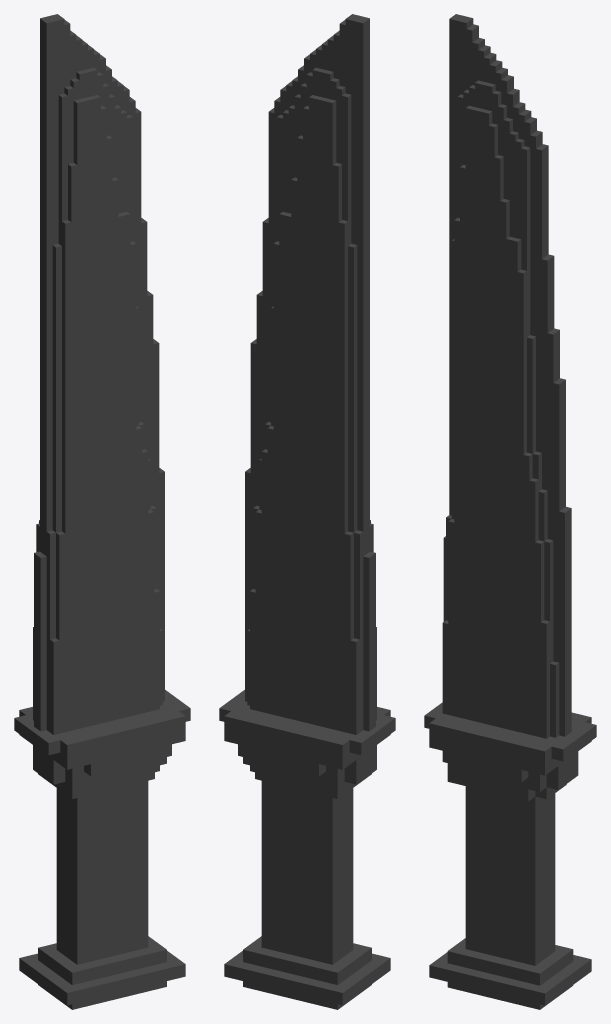
Rendered from sword.obj.
The picture shows the model from 3 angles, left to right: view 1: azimuth 30°, elevation 25°; view 2: azimuth 150°, elevation 25°; view 3: azimuth 330°, elevation 25°; orthographic projection. The views are drawn at different scales.
Size of the model in its own units: 2.4 by 15.8 by 1.4.
